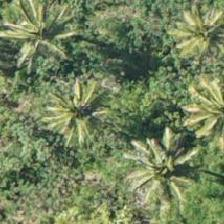coconut_tree: (33, 68, 123, 158), (116, 134, 206, 223), (1, 0, 91, 87), (155, 0, 223, 87), (177, 72, 223, 162)
